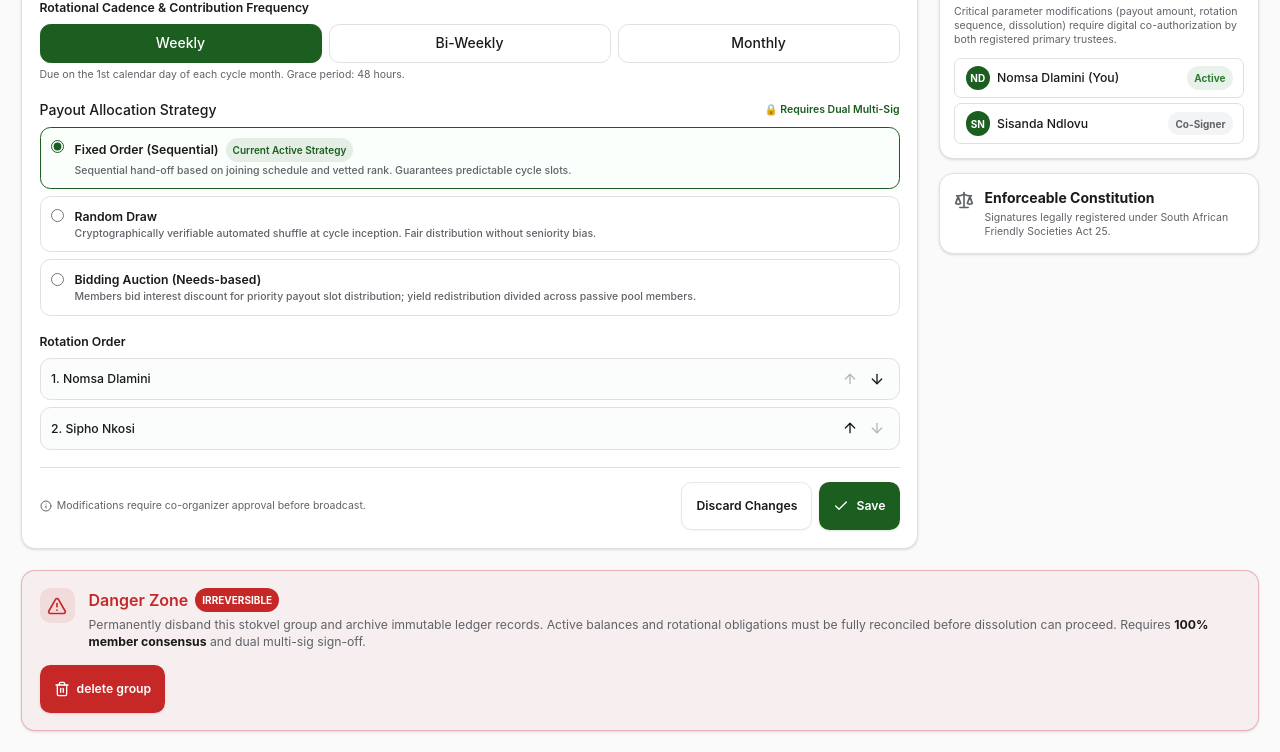
Test: T-S12-1 Stokvel Settings (S12) › T-S12-2 shows the exact delete confirmation with Cancel / Delete stokvel
The width and height of the screenshot is (1280, 752).
Later steps or results of the test are not shown.
(page scrolled)
Click the button "delete group" at (102, 688), box [40, 664, 165, 712]
(page scrolled)
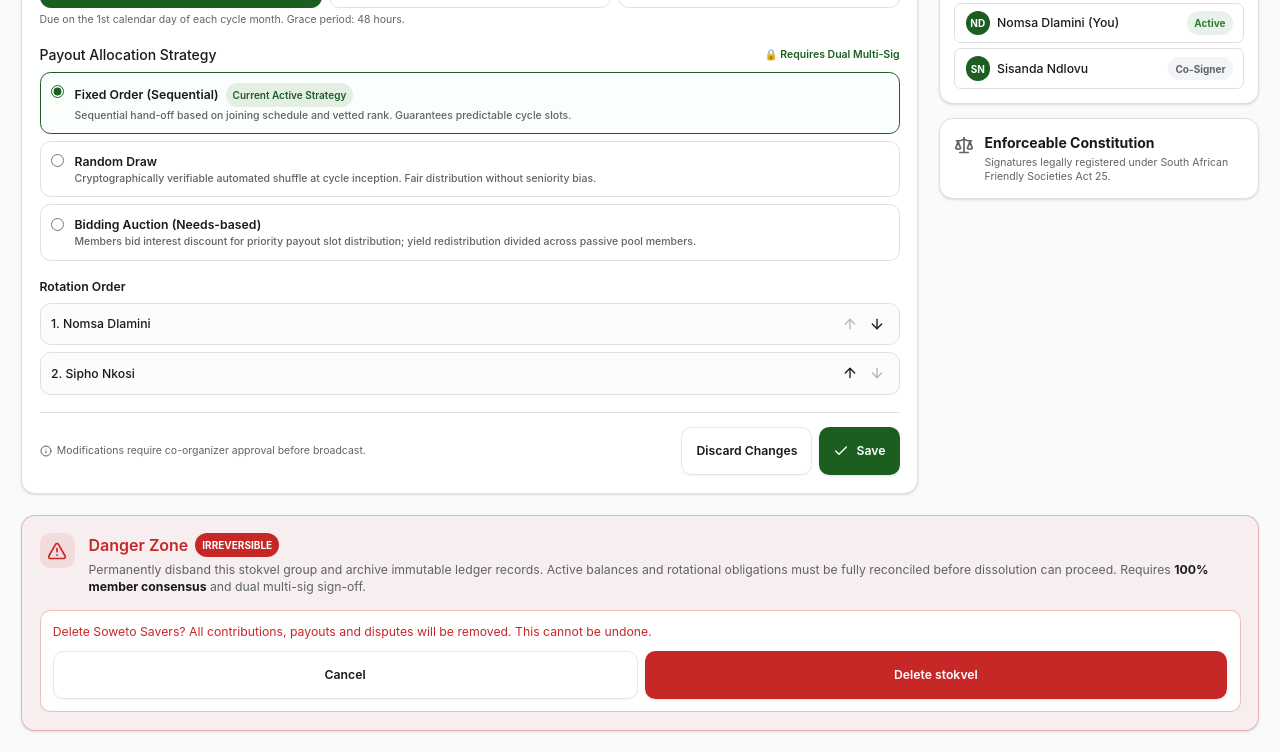
Now the text "Delete Soweto Savers? All contributions, payouts and disputes will be removed. This cannot be undone." is shown, box [53, 624, 652, 639]
Click the button "Cancel" at (345, 675), box [53, 651, 638, 699]
(page scrolled)
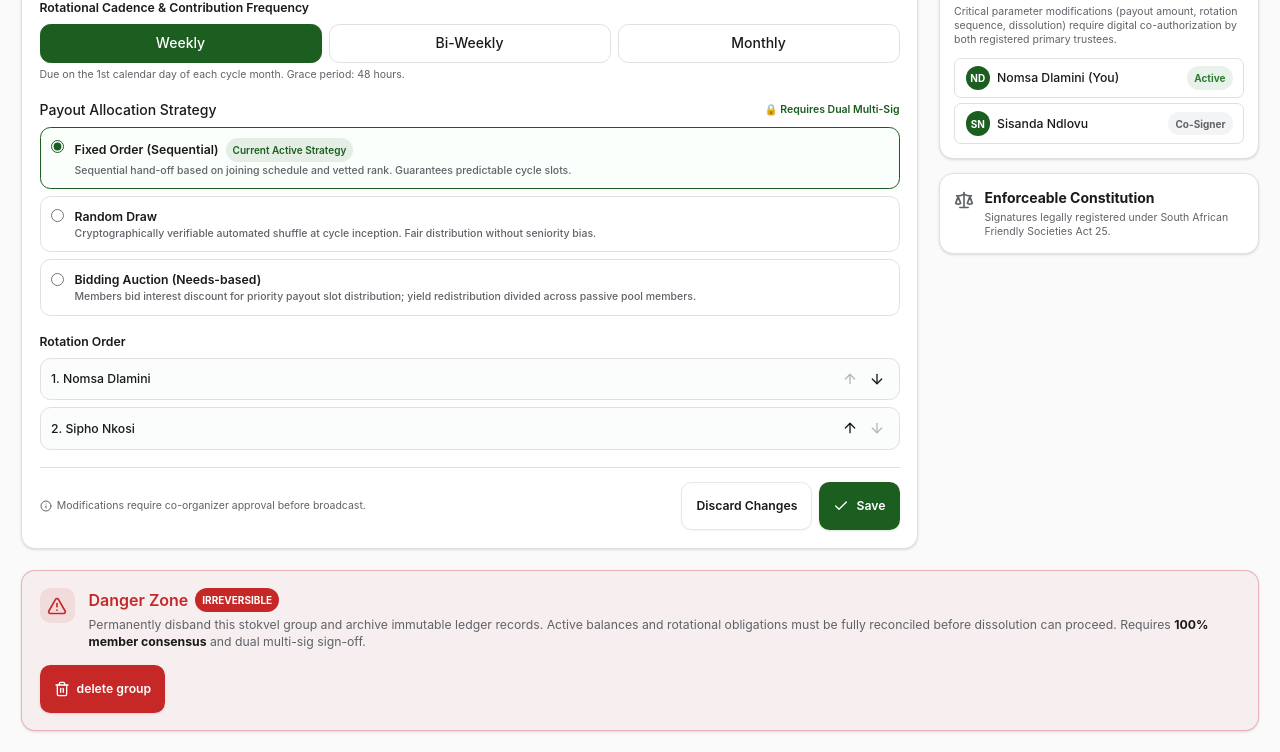
Now the text "Delete Soweto Savers? All contributions, payouts and disputes will be removed. This cannot be undone." is gone
